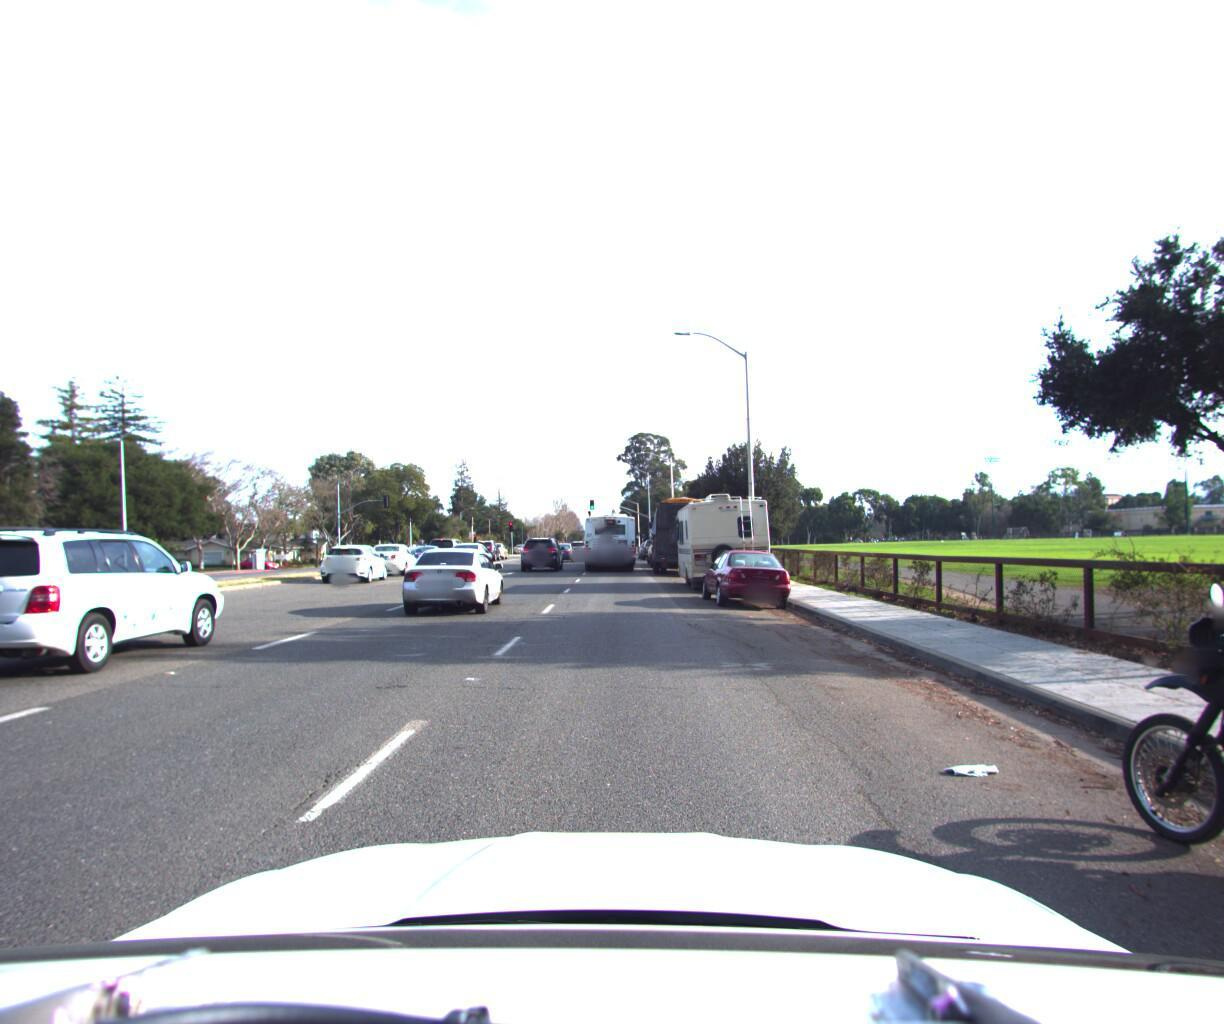bus: (647, 489, 724, 571), (580, 499, 640, 565)
car: (0, 521, 238, 685), (390, 534, 508, 608), (698, 538, 796, 610), (312, 536, 394, 582), (366, 536, 424, 573), (519, 529, 562, 565), (403, 537, 453, 566), (450, 536, 499, 566), (474, 531, 503, 556), (552, 539, 580, 559), (573, 537, 596, 554)
motorcycle: (1066, 546, 1224, 1024)
other_vehicle: (673, 481, 774, 589)
